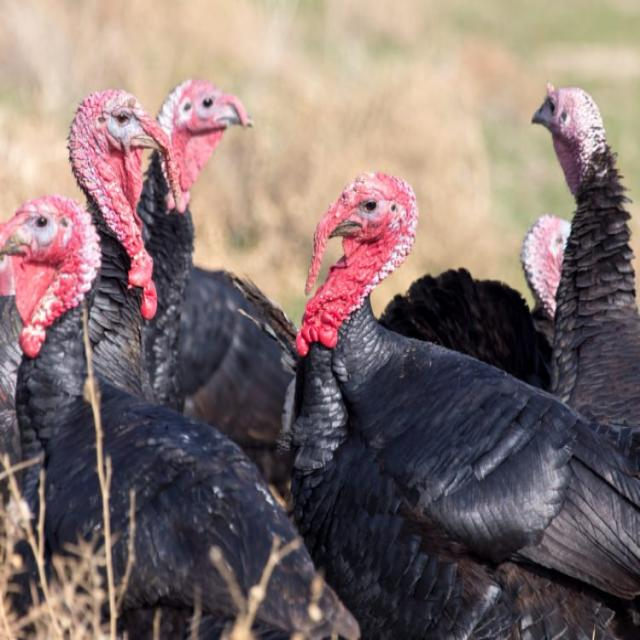Turkey: (38, 87, 366, 640), (283, 162, 640, 640), (474, 83, 640, 421)
